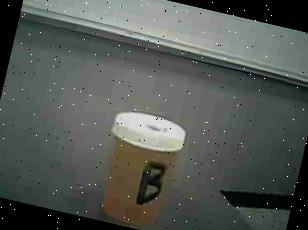Bottle B: (82, 100, 201, 230)
